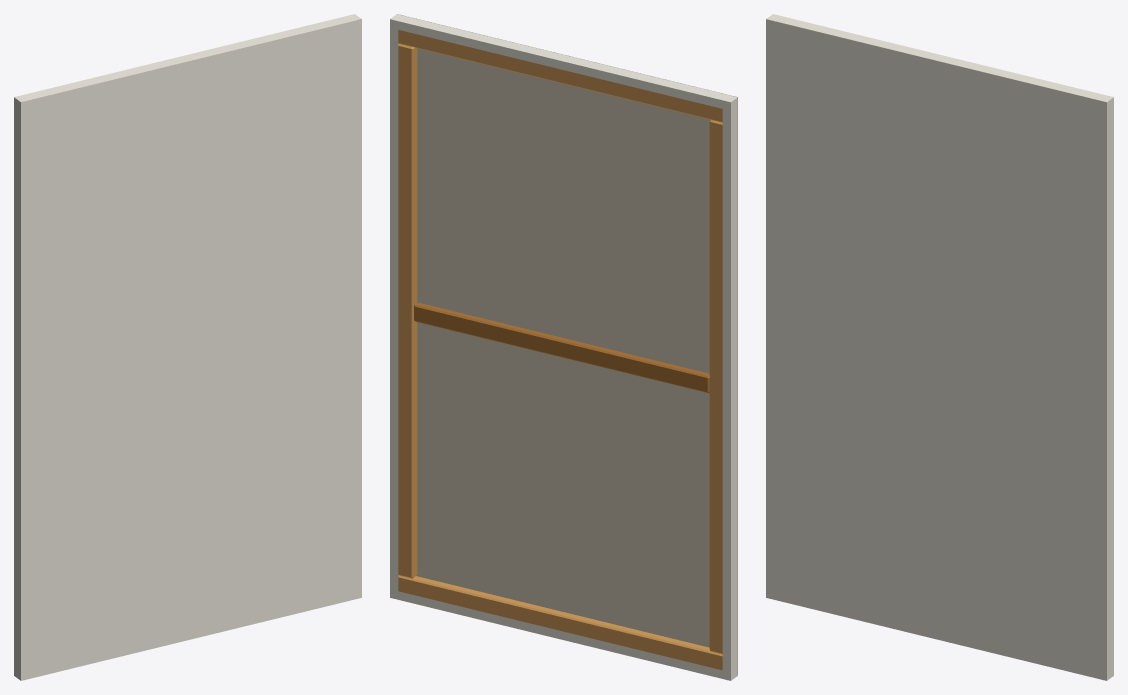
File: canvas_portrait.glb
The picture shows the model from 3 angles, left to right: view 1: azimuth 30°, elevation 25°; view 2: azimuth 150°, elevation 25°; view 3: azimuth 330°, elevation 25°; orthographic projection.
Visible parts, largest first — view 1: CanvasFace, CanvasBack; view 2: CanvasBack, CanvasFace; view 3: CanvasFace, CanvasBack.
Boxes of the visible parts, bbox=[...] form: CanvasFace: bbox=[21, 19, 361, 680]; CanvasBack: bbox=[14, 14, 361, 680]; CanvasBack: bbox=[390, 14, 737, 680]; CanvasFace: bbox=[397, 14, 737, 675]; CanvasFace: bbox=[766, 19, 1106, 680]; CanvasBack: bbox=[766, 14, 1113, 680].
Size of the model in its own units: 0.5 by 0.811 by 0.018.
Materials: 2 (1 with a texture image).
